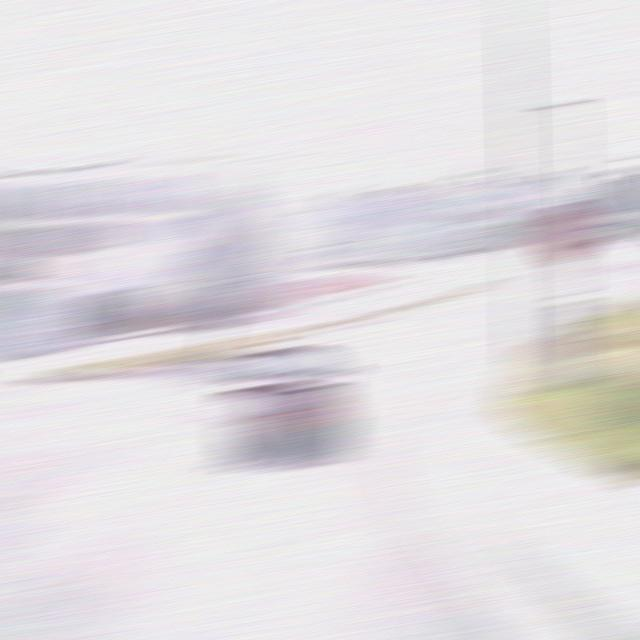stop: (534, 202, 596, 262)
